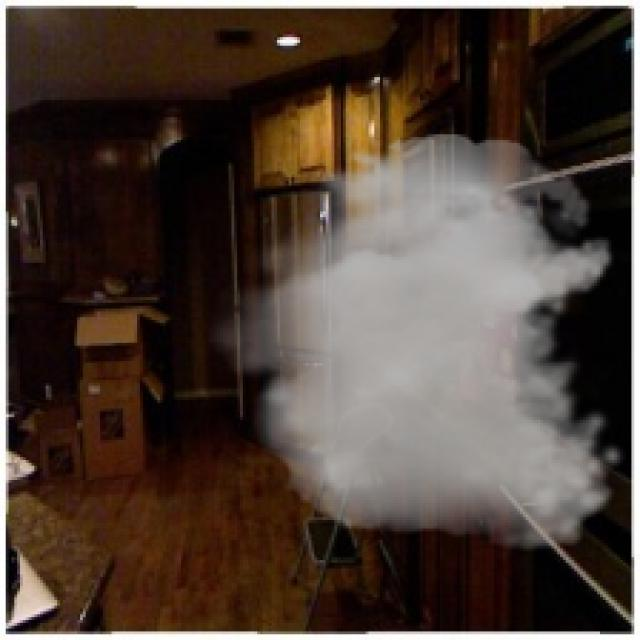smoke: (200, 134, 626, 552)
